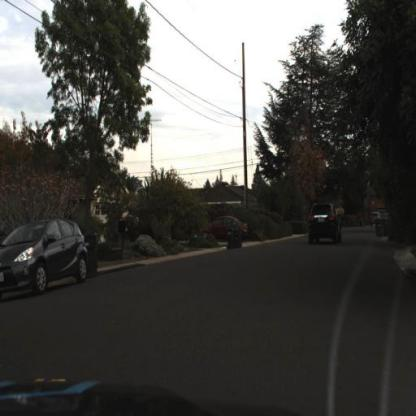car: (1, 220, 88, 295), (304, 187, 346, 257), (207, 213, 250, 243), (368, 209, 383, 233)
